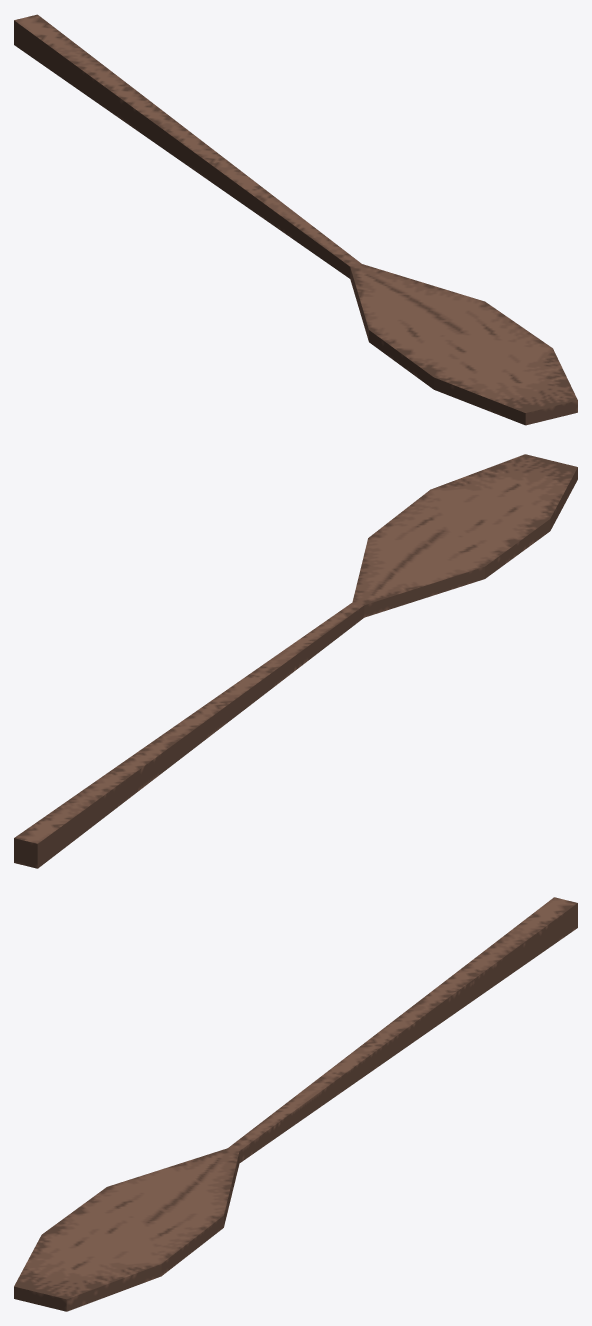
File: Oar.fbx
The picture shows the model from 3 angles, top to bottom: view 1: azimuth 30°, elevation 25°; view 2: azimuth 150°, elevation 25°; view 3: azimuth 330°, elevation 25°; orthographic projection.
Parts seen in each view (by area): view 1: Cube; view 2: Cube; view 3: Cube.
Part boxes in pixels (x1=…): Cube: x1=14, y1=14, x2=577, y2=425; Cube: x1=14, y1=454, x2=577, y2=868; Cube: x1=14, y1=897, x2=577, y2=1311.
Bounding box in the file's own units: 131 × 26.03 × 1000.
